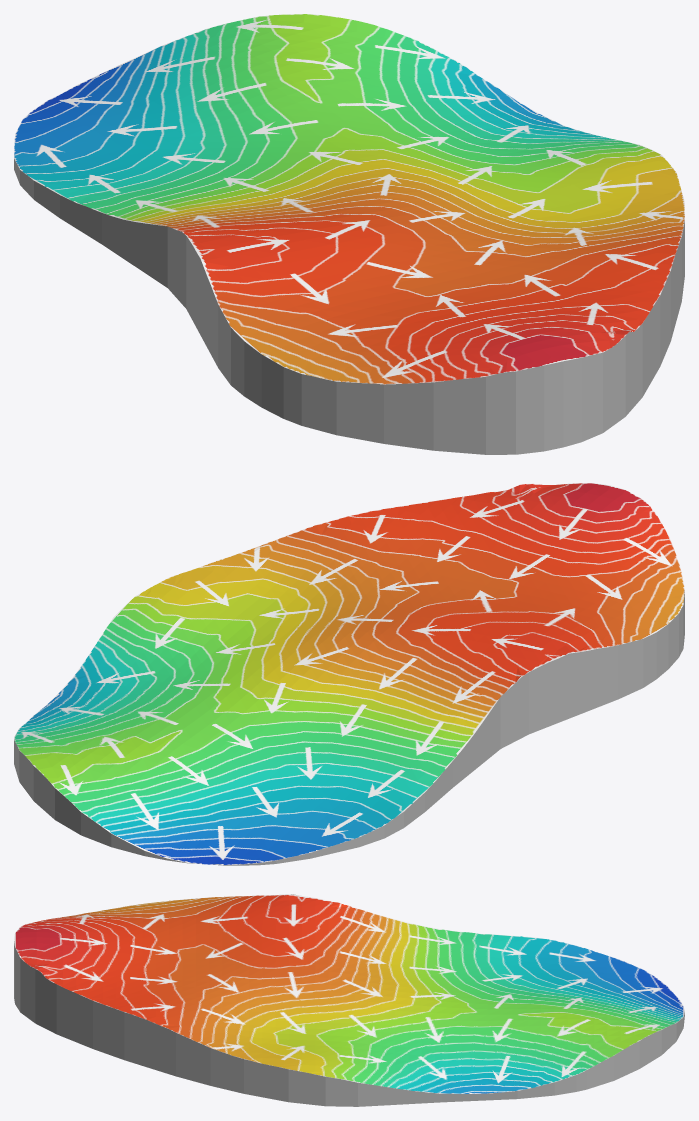
The picture shows the model from 3 angles, top to bottom: view 1: azimuth 30°, elevation 25°; view 2: azimuth 150°, elevation 25°; view 3: azimuth 270°, elevation 25°; orthographic projection. The views are drawn at different scales.
Size of the model in its own units: 2.89 by 0.4647 by 4.8.
Materials: 2 (1 with a texture image).
